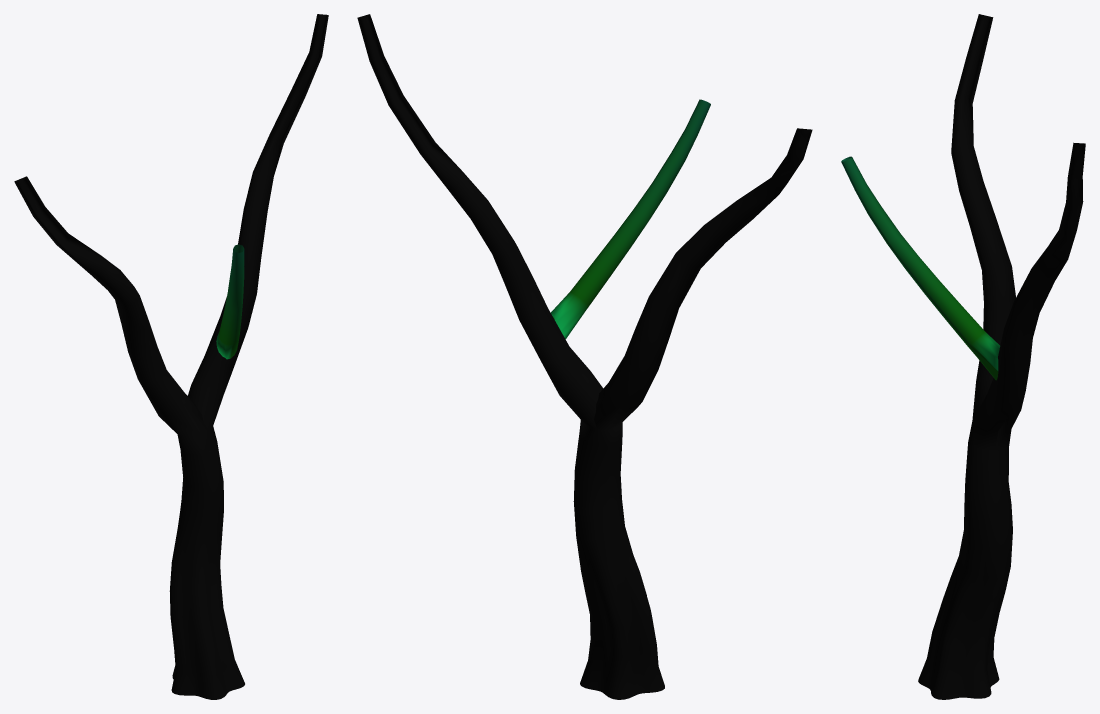
File: SM_Tree.fbx
The picture shows the model from 3 angles, left to right: view 1: azimuth 30°, elevation 25°; view 2: azimuth 150°, elevation 25°; view 3: azimuth 270°, elevation 25°; orthographic projection. The views are drawn at different scales.
Visible parts, largest first — view 1: SM_Tree; view 2: SM_Tree; view 3: SM_Tree.
Part boxes in pixels (bbox=[...]): SM_Tree: bbox=[14, 14, 328, 699]; SM_Tree: bbox=[357, 14, 812, 699]; SM_Tree: bbox=[841, 14, 1085, 699].
Size of the model in its own units: 477 by 753 by 265.
